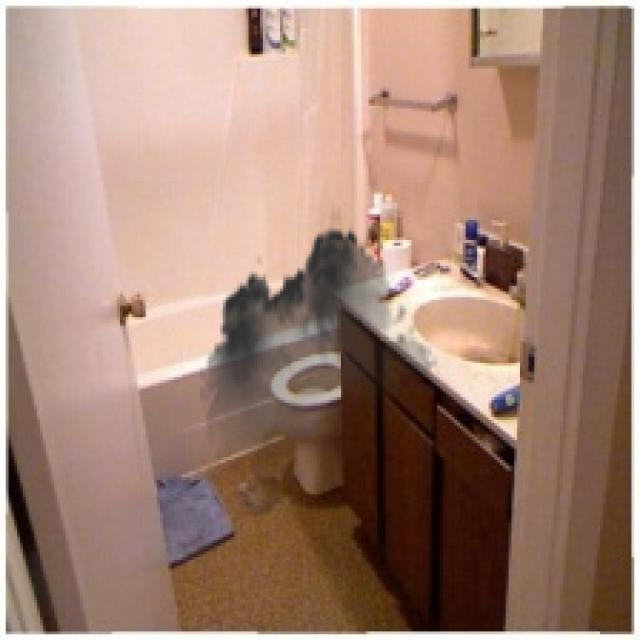Smoke: (200, 217, 440, 494)
